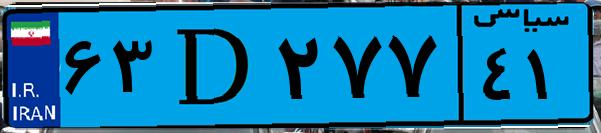1: (525, 38, 570, 115)
2: (270, 28, 330, 110)
3: (110, 28, 158, 98)
4: (475, 38, 525, 113)
6: (57, 26, 110, 100)
7: (385, 28, 445, 110), (330, 28, 385, 110)
D: (158, 12, 270, 120)
